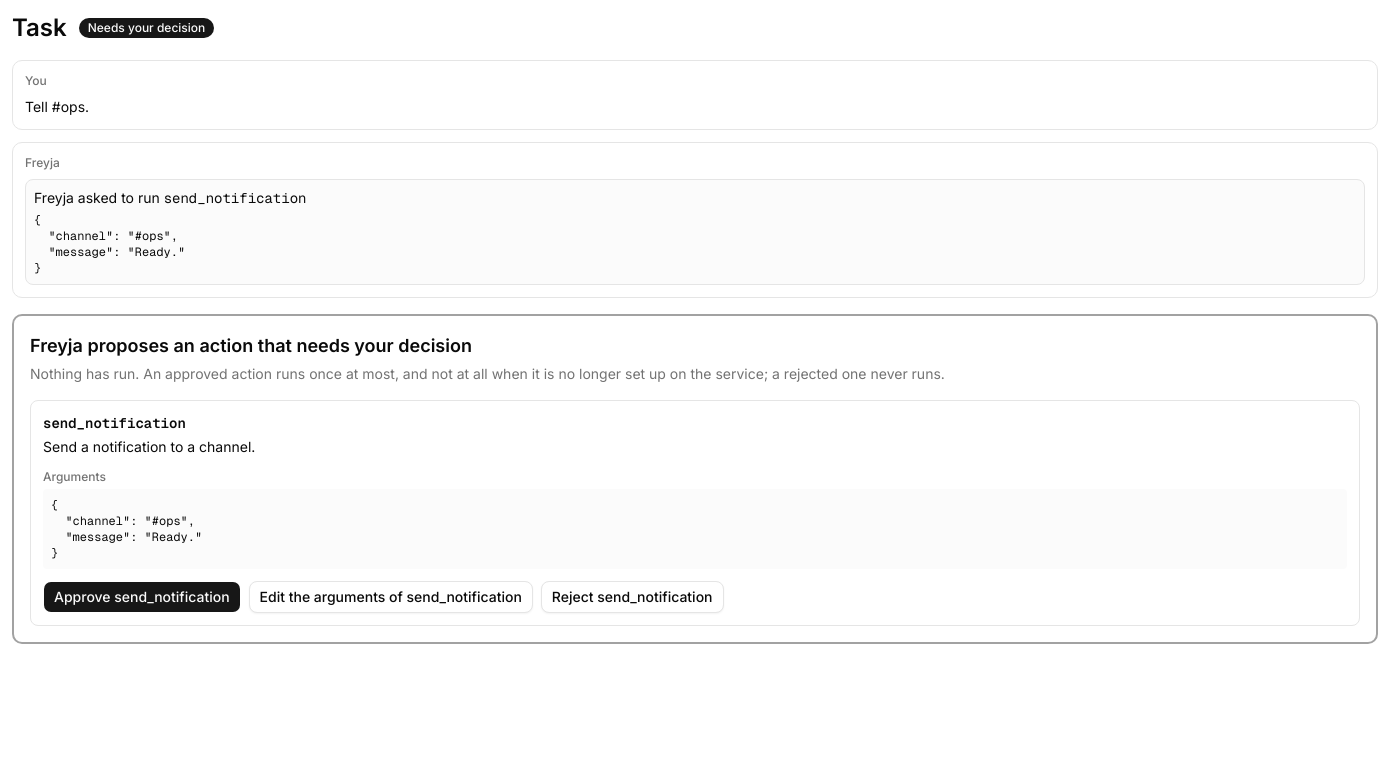
Scenario: a task's page with a proposal › says that a proposal decided elsewhere is no longer the pending one, and reads the task again
This screenshot has width=1390, height=780.
Click the button "Approve send_notification" at (142, 597), box [43,581,241,613]
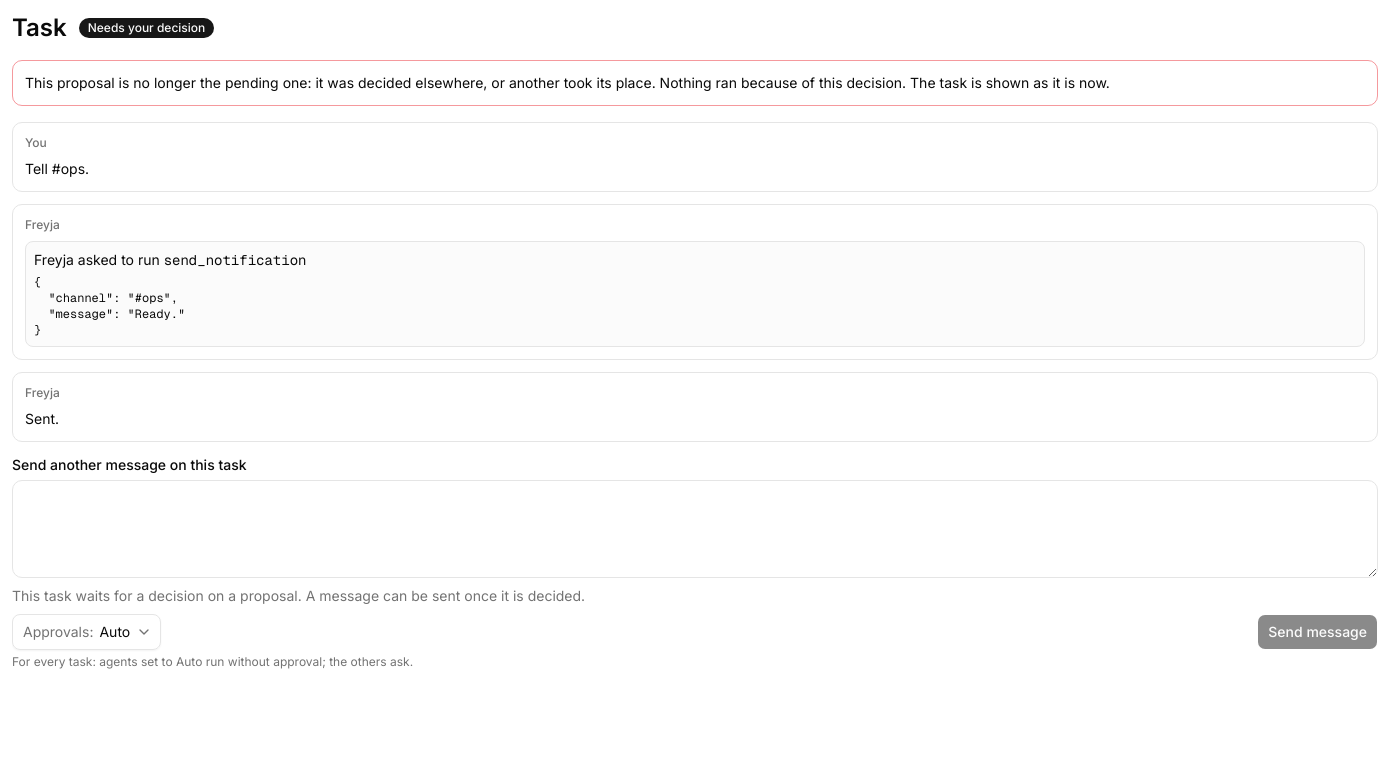
Expected: the message shows "no longer the pending one", [25,74,1110,91]
Expected: the list named "Conversation" shows "Sent.", [25,410,59,427]
Expected: the button "Approve send_notification" is gone
